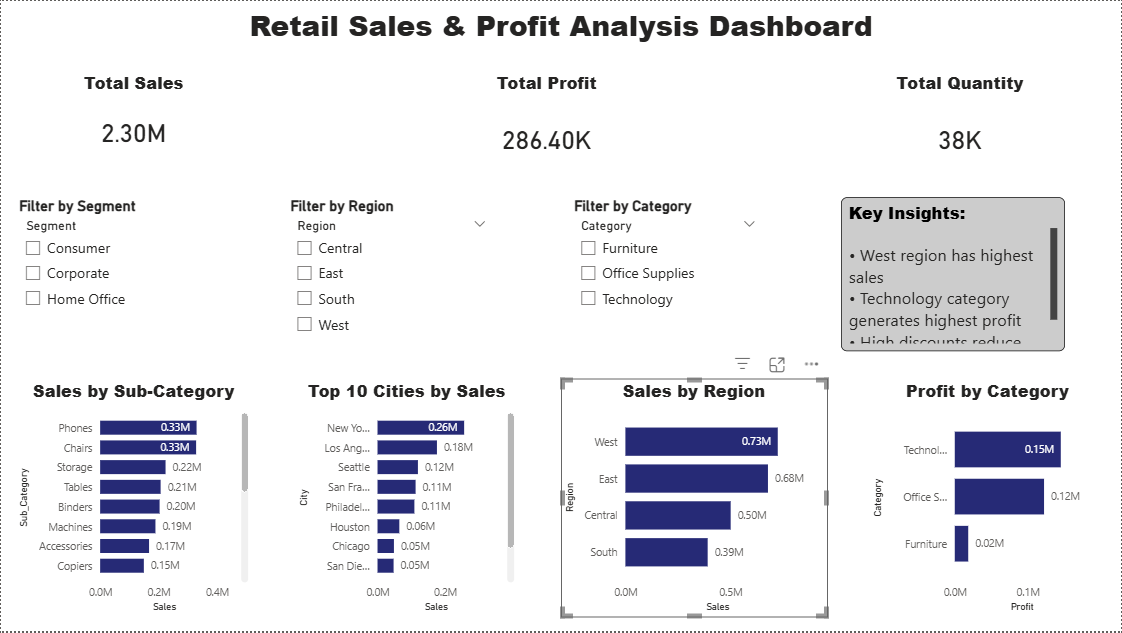

Layout of this report page (visuals, bound fields, positions):
{"tool":"powerbi","page":{"name":"Page 1","canvas":[1280,720],"ordinal":0},"visuals":[{"type":"card","title":"Total Sales","fields":{"Values":["Sum(cleaned data.Sales)"]},"box":[16,80,272,112],"z":0},{"type":"card","title":"Total Profit","fields":{"Values":["Sum(cleaned data.Profit)"]},"box":[496,80,256,128],"z":1000},{"type":"card","title":"Total Quantity","fields":{"Values":["Sum(cleaned data.Quantity)"]},"box":[960,80,272,128],"z":2000},{"type":"clusteredBarChart","title":"Sales by Region","fields":{"Category":["cleaned data.Region"],"Y":["Sum(cleaned data.Total Sales)"]},"box":[640,432,304,272],"z":3000},{"type":"clusteredBarChart","title":"Profit by Category","fields":{"Category":["cleaned data.Category"],"Y":["Sum(cleaned data.Total Peofit)"]},"box":[992,432,272,272],"z":4000},{"type":"clusteredBarChart","title":"Sales by Sub-Category","fields":{"Category":["cleaned data.Sub_Category"],"Y":["Sum(cleaned data.Total Sales)"]},"box":[16,432,272,272],"z":5000},{"type":"clusteredBarChart","title":"Top 10 Cities by Sales","fields":{"Category":["cleaned data.City"],"Y":["Sum(cleaned data.Total Sales)"]},"box":[336,432,256,272],"z":6000},{"type":"slicer","title":"Filter by Region","fields":{"Values":["cleaned data.Region"]},"box":[325.3,224,240,176],"z":7000},{"type":"slicer","title":"Filter by Category","fields":{"Values":["cleaned data.Category"]},"box":[650.7,224,224,176],"z":8000},{"type":"slicer","title":"Filter by Segment","fields":{"Values":["cleaned data.Segment"]},"box":[16,224,224,176],"z":9000},{"type":"textbox","box":[0,0,1280,80],"z":10000},{"type":"textbox","title":"Key Insights:","box":[960,224,256,176],"z":11000}]}

Visuals, with their boxes in screenshot pixels (x1, y1, x2, y2), scaled from the page's 1280x720 canvas onto the 1122x633 screenshot:
"Total Sales" card: locate(14, 70, 252, 169)
"Total Profit" card: locate(435, 70, 659, 183)
"Total Quantity" card: locate(842, 70, 1080, 183)
"Sales by Region" clusteredBarChart: locate(561, 380, 827, 619)
"Profit by Category" clusteredBarChart: locate(870, 380, 1108, 619)
"Sales by Sub-Category" clusteredBarChart: locate(14, 380, 252, 619)
"Top 10 Cities by Sales" clusteredBarChart: locate(295, 380, 519, 619)
"Filter by Region" slicer: locate(285, 197, 496, 352)
"Filter by Category" slicer: locate(570, 197, 767, 352)
"Filter by Segment" slicer: locate(14, 197, 210, 352)
textbox: locate(0, 0, 1121, 70)
"Key Insights:" textbox: locate(842, 197, 1066, 352)
